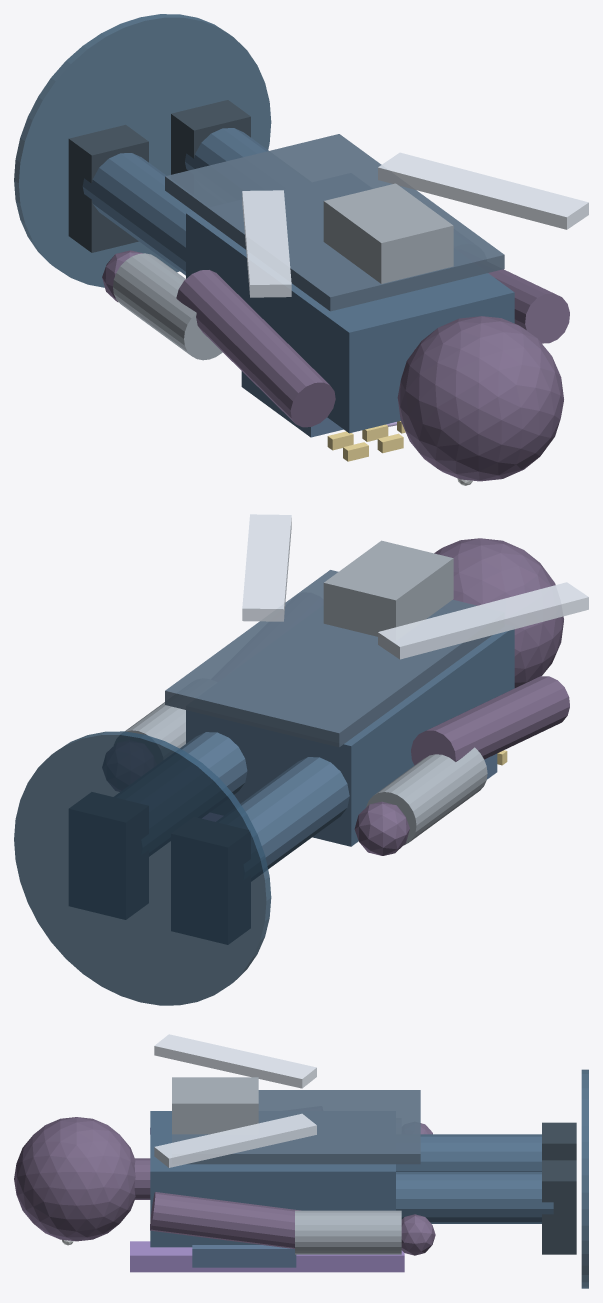
Rendered from SW_NPC_046_yorin_noxwind.glb.
The picture shows the model from 3 angles, top to bottom: view 1: azimuth 30°, elevation 25°; view 2: azimuth 150°, elevation 25°; view 3: azimuth 270°, elevation 25°; orthographic projection. The views are drawn at different scales.
Parts seen in each view (by area): view 1: round_base_plate, head, torso_uniform, storm_cloak, left_upper_arm, wingpack_core, left_leg, right_wing_rig, left_forearm_gauntlet, left_boot, left_wing_rig, right_boot (+4 smaller); view 2: round_base_plate, storm_cloak, torso_uniform, wingpack_core, head, left_upper_arm, left_leg, left_wing_rig, left_forearm_gauntlet, right_wing_rig, left_hand, right_leg (+1 smaller); view 3: head, torso_uniform, storm_cloak, right_leg, right_upper_arm, left_leg, right_forearm_gauntlet, wingpack_core, rank_sash, left_wing_rig, right_wing_rig, right_boot (+5 smaller).
Part boxes in pixels (x1,y1,x2,y2): round_base_plate: (14, 14, 271, 287); head: (397, 316, 563, 481); torso_uniform: (186, 211, 514, 433); storm_cloak: (165, 134, 504, 311); left_upper_arm: (176, 270, 335, 427); wingpack_core: (323, 183, 453, 283); left_leg: (82, 153, 192, 275); right_wing_rig: (378, 152, 588, 229); left_forearm_gauntlet: (113, 253, 222, 360); left_boot: (68, 124, 148, 252); left_wing_rig: (242, 190, 291, 297); right_boot: (171, 100, 250, 174); round_base_plate: (14, 731, 271, 1005); storm_cloak: (165, 570, 492, 747); torso_uniform: (186, 629, 514, 846); wingpack_core: (323, 540, 453, 636); head: (434, 538, 563, 687); left_upper_arm: (411, 676, 569, 765); left_leg: (240, 757, 349, 869); left_wing_rig: (378, 582, 588, 659); left_forearm_gauntlet: (366, 747, 487, 845); right_wing_rig: (242, 514, 291, 621); left_hand: (354, 801, 409, 855); right_leg: (180, 732, 247, 794); head: (14, 1117, 135, 1241); torso_uniform: (150, 1111, 395, 1247); storm_cloak: (172, 1090, 420, 1164); right_leg: (396, 1172, 553, 1223); right_upper_arm: (150, 1192, 300, 1248); left_leg: (396, 1134, 541, 1171); right_forearm_gauntlet: (295, 1210, 401, 1254); wingpack_core: (172, 1077, 258, 1134); rank_sash: (130, 1241, 404, 1272); left_wing_rig: (154, 1034, 316, 1088); right_wing_rig: (154, 1113, 316, 1167); right_boot: (542, 1160, 576, 1254).
Size of the model in its own units: 1.05 by 0.7812 by 2.05.
